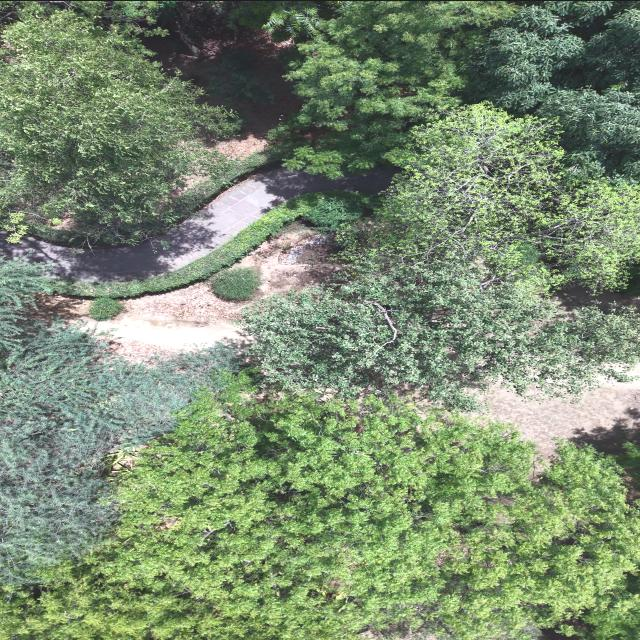DRY_AREA: (37, 222, 338, 359), (142, 1, 300, 156), (146, 8, 298, 155), (38, 282, 245, 358), (482, 380, 639, 457), (483, 381, 639, 457)
PATHWAYS: (1, 168, 395, 281)
VEGETATION_TREE: (0, 1, 639, 639), (1, 380, 639, 639), (2, 388, 639, 639), (245, 103, 639, 408), (0, 260, 232, 584), (230, 1, 639, 180), (0, 1, 279, 245), (0, 325, 231, 583), (245, 261, 639, 408), (337, 103, 639, 289), (1, 6, 236, 242), (277, 1, 515, 175), (52, 191, 367, 297), (463, 1, 639, 180), (141, 1, 300, 143), (0, 470, 114, 585), (554, 565, 639, 639), (556, 575, 639, 639), (0, 256, 52, 347), (229, 1, 349, 37), (203, 51, 280, 106), (50, 1, 166, 33), (301, 192, 366, 230), (210, 266, 262, 300), (610, 435, 639, 490), (88, 296, 125, 320), (621, 267, 639, 296)
